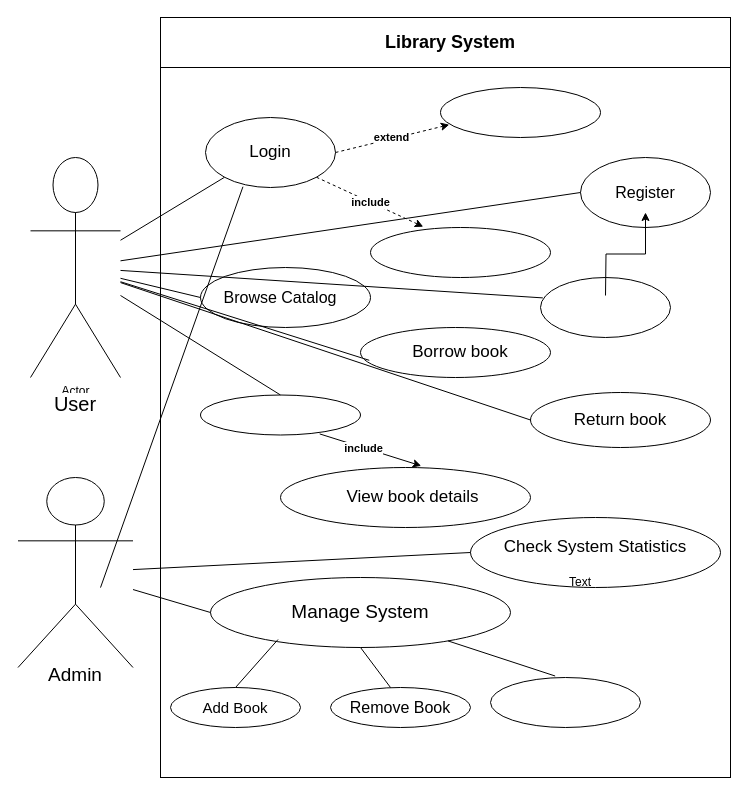
Image size: 749x795. Some labels were removed from this diagram. The centre of each missing label's shape, as x and y in pixels:
Edit Books Status: point 565,702
Renew: point 605,307
Search books: point 280,414
Show error message: point 520,112
Validation credentials: point 460,252
